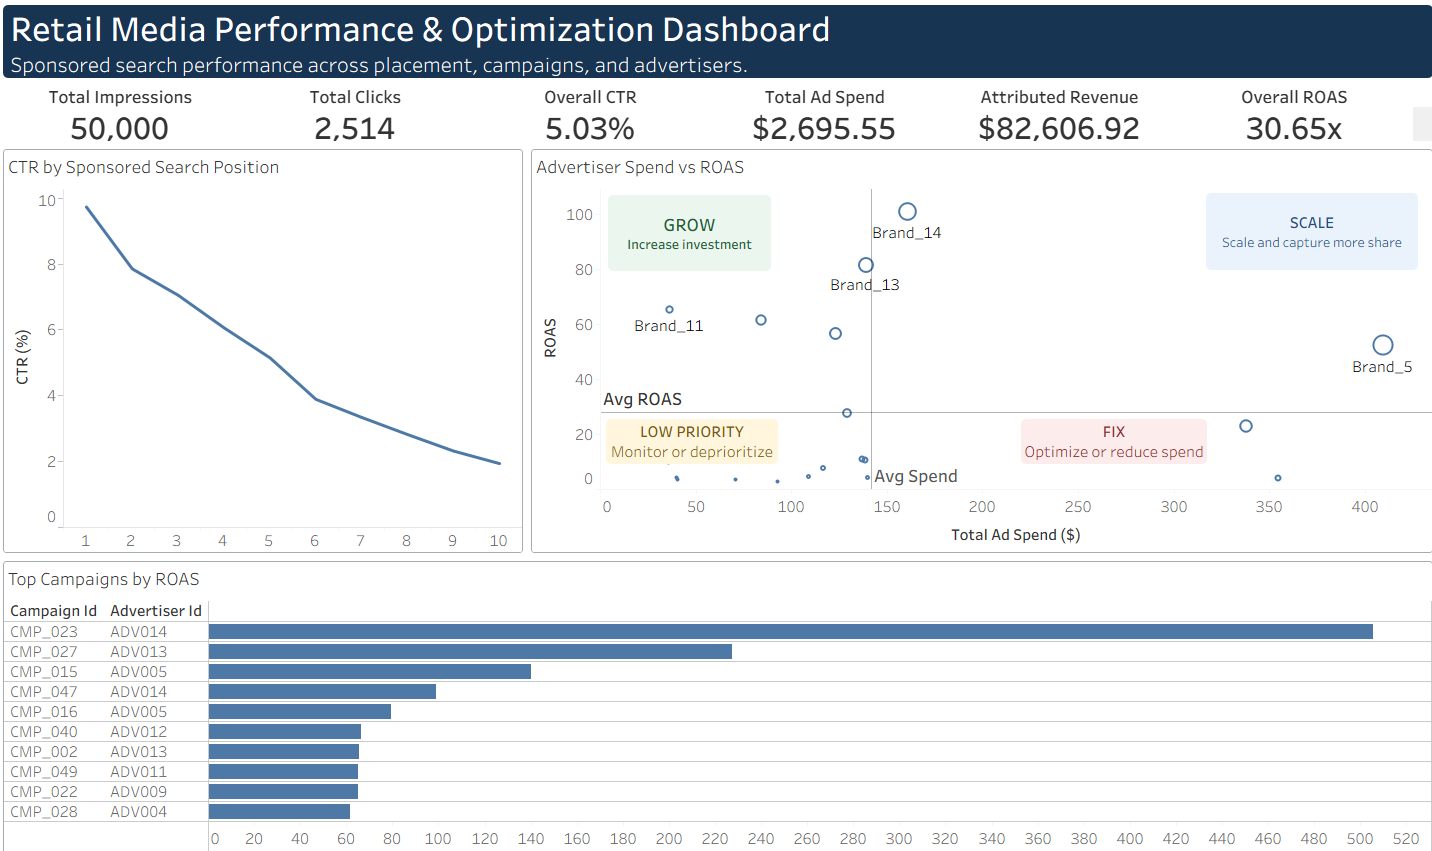

Layout of this report page (visuals, bound fields, positions):
{"tool":"tableau","page":{"name":"Retail Media Overview","canvas":[1440,900],"ordinal":0},"visuals":[{"type":"title","box":[0,2,1438,81]},{"type":"worksheet","title":"KPI Summary","mark":"Automatic","box":[0,83,1438,62.8]},{"type":"worksheet","title":"Position vs CTR","mark":"Line","rows":["ctr_percent"],"cols":["position"],"box":[0,145.8,528.4,412.1]},{"type":"worksheet","title":"Advertiser Spend vs ROAS","mark":"Automatic","rows":["roas"],"cols":["total_ad_spend"],"box":[528.4,145.8,909.6,412.1]},{"type":"text","box":[1207,194,212,77]},{"type":"text","box":[609,196,163,76]},{"type":"text","box":[607,420,172,45]},{"type":"text","box":[1022,420,186,45]},{"type":"worksheet","title":"Campaign Performance","mark":"Automatic","rows":["campaign_id","advertiser_id"],"cols":["roas"],"box":[0,557.9,1438,334.1]}]}

Visuals, with their boxes on the page's 1440x900 design canvas (x1, y1, x2, y2). These are canvas units, not pixel positions in the 1432x851 screenshot, which may show the page scaled, cropped or inside an application window:
title: 0:2:1438:83
"KPI Summary" worksheet: 0:83:1438:146
"Position vs CTR" worksheet (Line marks): 0:146:528:558
"Advertiser Spend vs ROAS" worksheet: 528:146:1438:558
text: 1207:194:1419:271
text: 609:196:772:272
text: 607:420:779:465
text: 1022:420:1208:465
"Campaign Performance" worksheet: 0:558:1438:892
